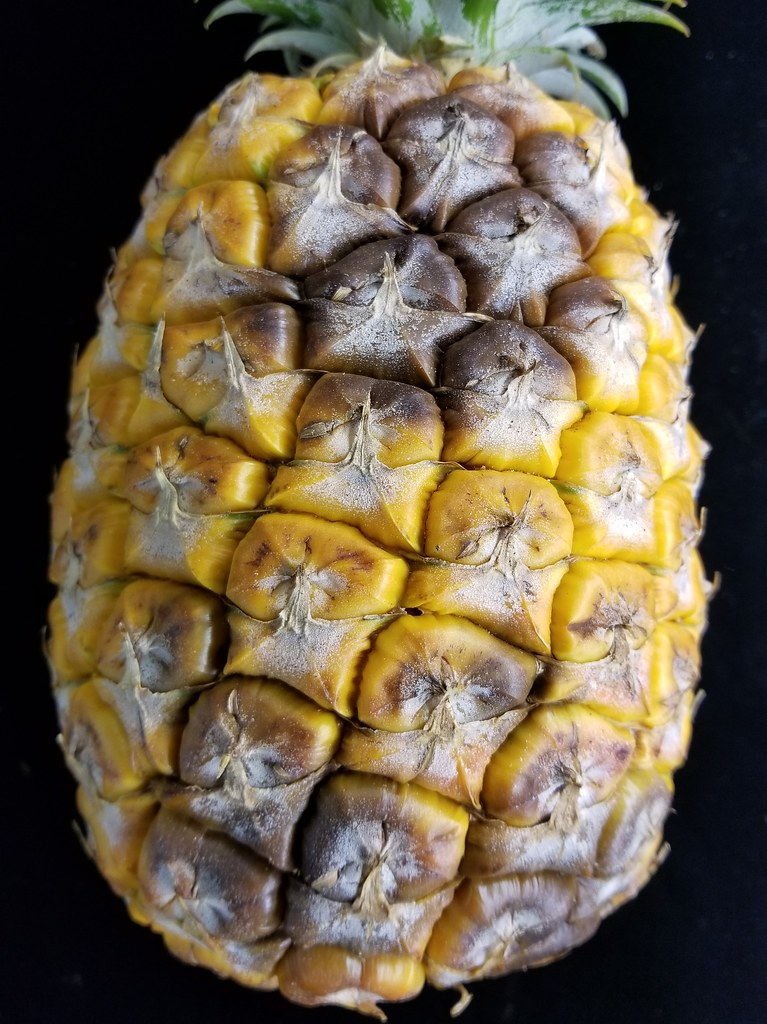damaged_pineapple: (90, 81, 637, 969)
